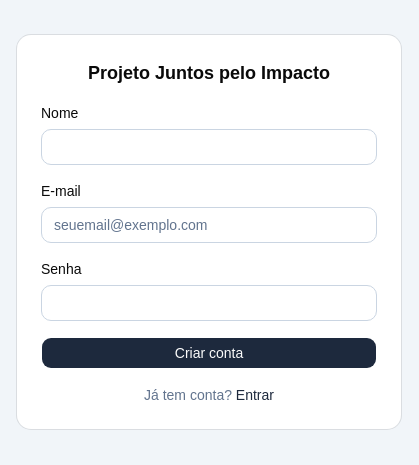
Test: SignUpPage › shows 409 as "E-mail já cadastrado"
The width and height of the screenshot is (419, 465).
In the field labelled "Nome": [209, 147] box [41, 129, 377, 165], type "Ana"
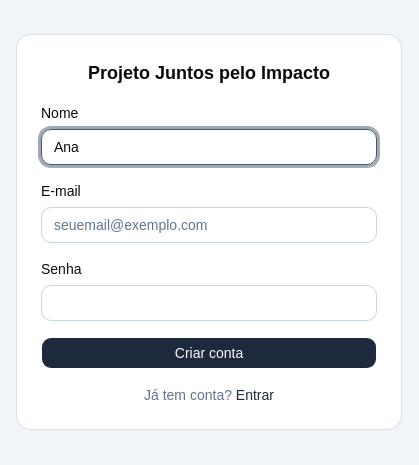
In the field labelled "E-mail": [209, 225] box [41, 207, 377, 243], type "ana@b.com"
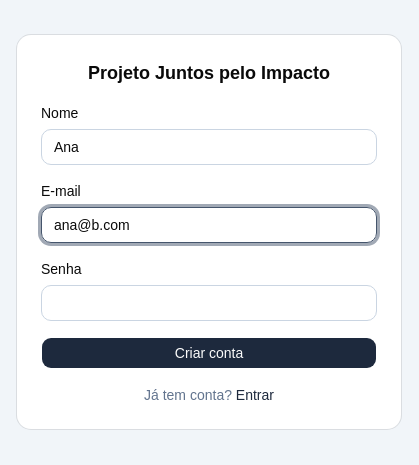
In the password field labelled "Senha": [209, 303] box [41, 285, 377, 321], type "senha123"
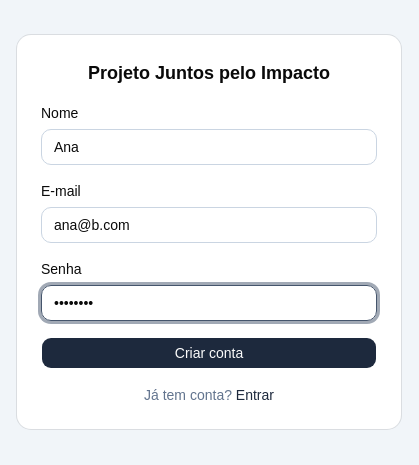
Click the button "Criar conta": [209, 353] box [41, 337, 377, 369]
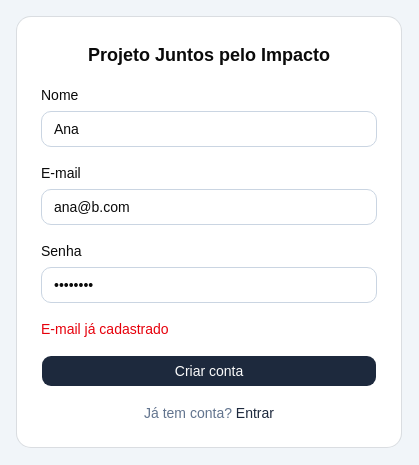
Expected: the text "E-mail já cadastrado" is shown, [41, 321, 169, 337]
